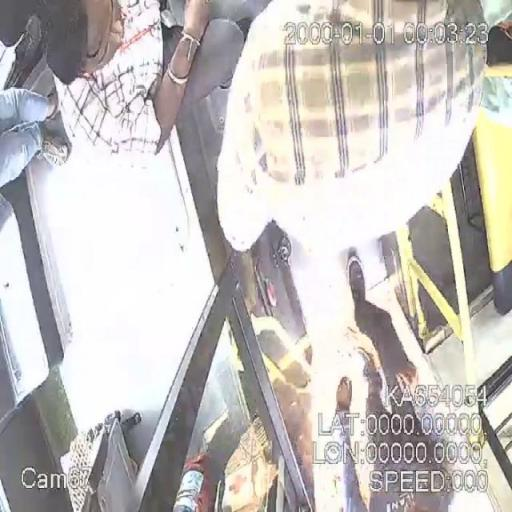persona: (41, 0, 244, 172), (332, 254, 459, 510)
